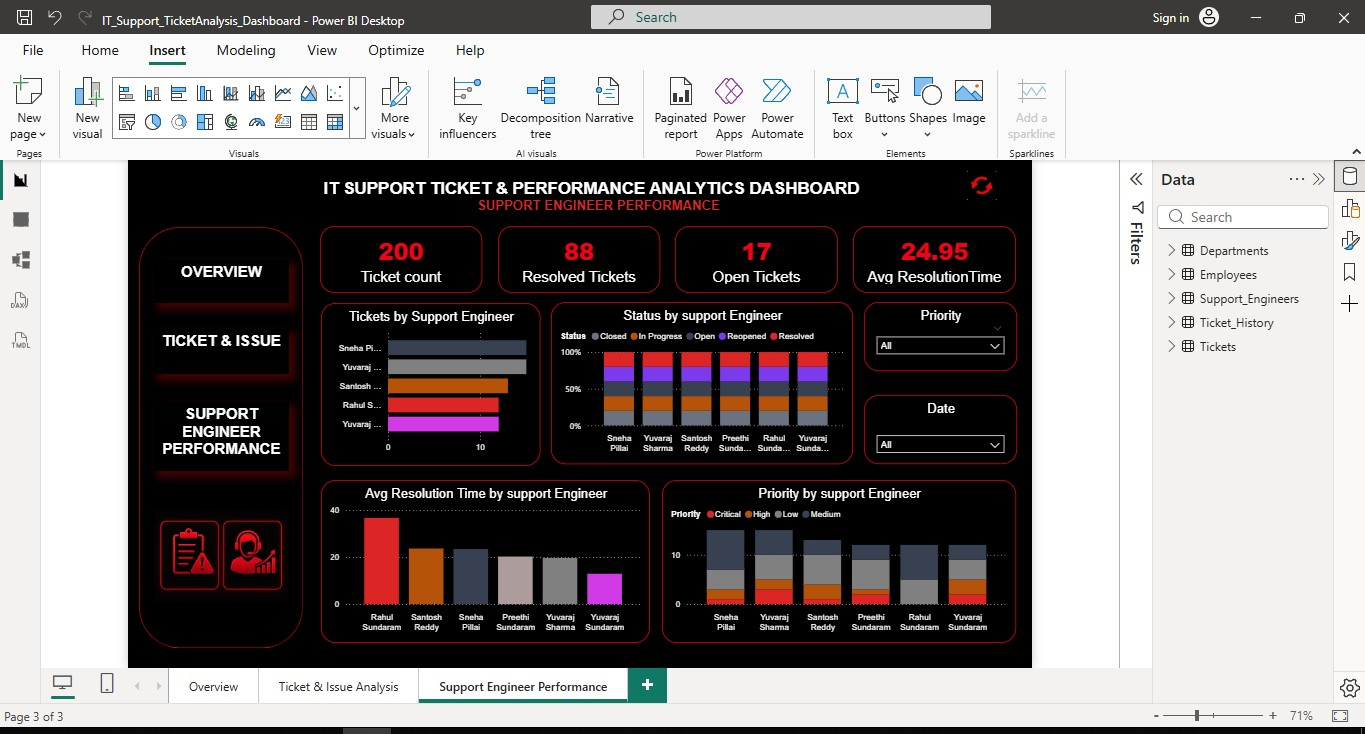

Layout of this report page (visuals, bound fields, positions):
{"tool":"powerbi","page":{"name":"Support Engineer Performance","canvas":[1280,720],"ordinal":2},"visuals":[{"type":"shape","box":[16.1,94.7,232.4,597.1],"z":0},{"type":"card","title":"All Time","fields":{"Values":["Departments.Ticket count"]},"box":[272.1,93.5,229.6,95],"z":1000},{"type":"card","title":"All Time","fields":{"Values":["Departments.Resolved Tickets"]},"box":[524.4,93.5,229.6,95],"z":2000},{"type":"card","title":"All Time","fields":{"Values":["Departments.Open Tickets"]},"box":[775.3,93.5,231,95],"z":3000},{"type":"card","title":"All Time","fields":{"Values":["Departments.Avg ResolutionTime"]},"box":[1027.6,93.5,231,95],"z":4000},{"type":"hundredPercentStackedColumnChart","title":"Status by support Engineer","fields":{"Category":["Support_Engineers.Engineer_Name"],"Series":["Ticket_History.Status"],"Y":["Departments.Ticket count"]},"box":[599.5,201.3,447.9,231],"z":5000},{"type":"barChart","title":"Tickets by Support Engineer","fields":{"Category":["Support_Engineers.Engineer_Name"],"Y":["Departments.Ticket count"]},"box":[273.5,202,311.1,230.6],"z":6000},{"type":"columnChart","title":"Avg Resolution Time by support Engineer","fields":{"Category":["Support_Engineers.Engineer_Name"],"Y":["Departments.Avg ResolutionTime"]},"box":[273.5,453.5,466.3,231],"z":7000},{"type":"columnChart","title":"Priority by support Engineer","fields":{"Category":["Support_Engineers.Engineer_Name"],"Series":["Tickets.Priority"],"Y":["Departments.Ticket count"]},"box":[756.9,453.5,501.7,231],"z":8000},{"type":"textbox","title":"Overview","box":[37.5,141.2,191.3,60.8],"z":9000},{"type":"textbox","title":"Ticket & Issue","box":[37.5,239.6,191.3,64.4],"z":10000},{"type":"textbox","title":"Support Engineer Performace","box":[37.5,343.2,191.3,98.3],"z":11000},{"type":"actionButton","box":[38.3,141.7,190,60],"z":12000},{"type":"actionButton","box":[40,240,190,60],"z":13000},{"type":"actionButton","box":[40,343.3,190,88.3],"z":14000},{"type":"slicer","title":"Priority","fields":{"Values":["Tickets.Priority"]},"box":[1061.6,201.3,198.4,99.2],"z":15000},{"type":"slicer","title":"Date","fields":{"Values":["Tickets.Created_Date"]},"box":[1061.6,333.1,198.4,99.2],"z":16000},{"type":"textbox","box":[271.7,21.7,790,71.7],"z":17000},{"type":"image","box":[1181.5,15.7,55.7,41.4],"z":18000},{"type":"actionButton","box":[1181.7,21.5,55.4,39.3],"z":18001},{"type":"image","box":[37.1,476.6,191.2,169.8],"z":18002}]}

Visuals, with their boxes on the page's 1280x720 design canvas (x1, y1, x2, y2). These are canvas units, not pixel positions in the 1365x734 screenshot, which may show the page scaled, cropped or inside an application window:
shape: bbox=(16, 95, 248, 692)
"All Time" card: bbox=(272, 94, 502, 188)
"All Time" card: bbox=(524, 94, 754, 188)
"All Time" card: bbox=(775, 94, 1006, 188)
"All Time" card: bbox=(1028, 94, 1259, 188)
"Status by support Engineer" hundredPercentStackedColumnChart: bbox=(600, 201, 1047, 432)
"Tickets by Support Engineer" barChart: bbox=(274, 202, 585, 433)
"Avg Resolution Time by support Engineer" columnChart: bbox=(274, 454, 740, 684)
"Priority by support Engineer" columnChart: bbox=(757, 454, 1259, 684)
"Overview" textbox: bbox=(38, 141, 229, 202)
"Ticket & Issue" textbox: bbox=(38, 240, 229, 304)
"Support Engineer Performace" textbox: bbox=(38, 343, 229, 442)
actionButton: bbox=(38, 142, 228, 202)
actionButton: bbox=(40, 240, 230, 300)
actionButton: bbox=(40, 343, 230, 432)
"Priority" slicer: bbox=(1062, 201, 1260, 300)
"Date" slicer: bbox=(1062, 333, 1260, 432)
textbox: bbox=(272, 22, 1062, 93)
image: bbox=(1182, 16, 1237, 57)
actionButton: bbox=(1182, 22, 1237, 61)
image: bbox=(37, 477, 228, 646)
